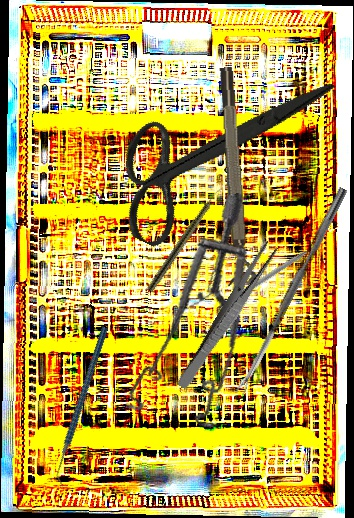Chopper: (10, 325, 156, 489)
Dressing Forceps: (175, 239, 280, 393)
Fixation Ring: (215, 66, 258, 286)
Handpiece: (146, 183, 225, 294)
Hook Surgical: (218, 239, 324, 312)
Iris Scissors: (91, 14, 339, 289)
Speculum: (89, 192, 286, 443)
Surgical Spoon: (234, 186, 348, 396)
